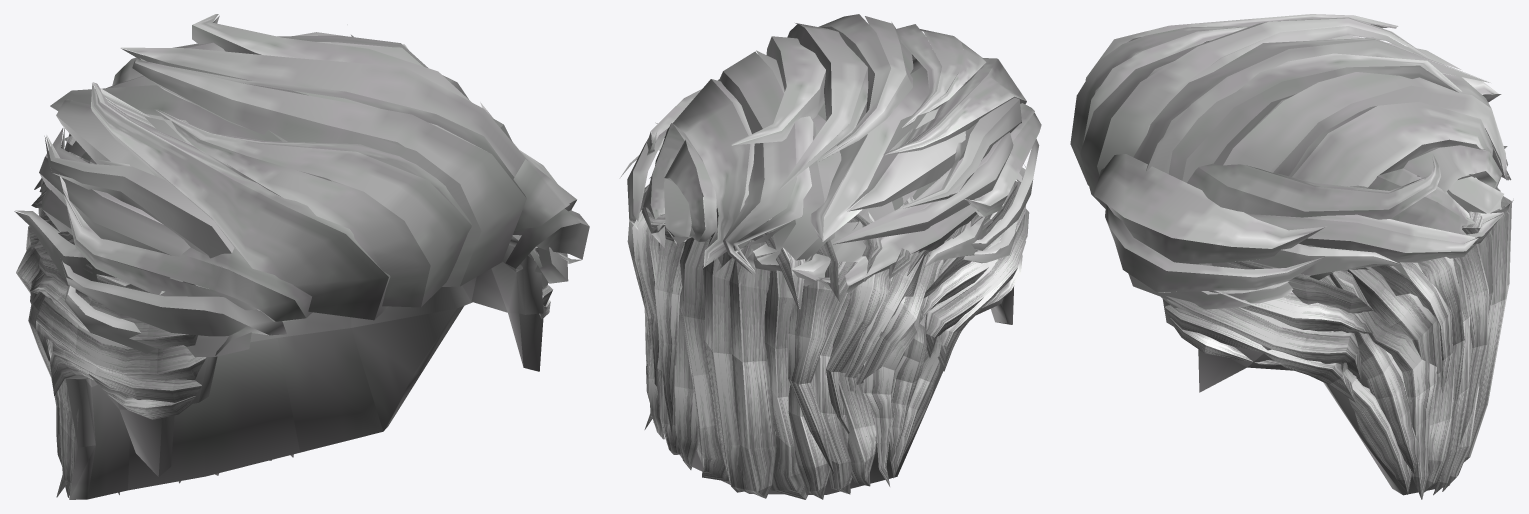
The picture shows the model from 3 angles, left to right: view 1: azimuth 30°, elevation 25°; view 2: azimuth 150°, elevation 25°; view 3: azimuth 270°, elevation 25°; orthographic projection. The views are drawn at different scales.
Parts seen in each view (by area): view 1: geometry_0; view 2: geometry_0; view 3: geometry_0.
Part boxes in pixels (left/top/right/bottom): geometry_0: left=14, top=14, right=589, bottom=499; geometry_0: left=619, top=14, right=1041, bottom=499; geometry_0: left=1070, top=14, right=1513, bottom=499.
Size of the model in its own units: 1.36 by 1.44 by 1.41.
Materials: 1 (1 with a texture image).
